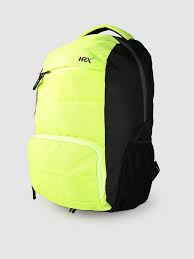backpack: (27, 23, 160, 213)
